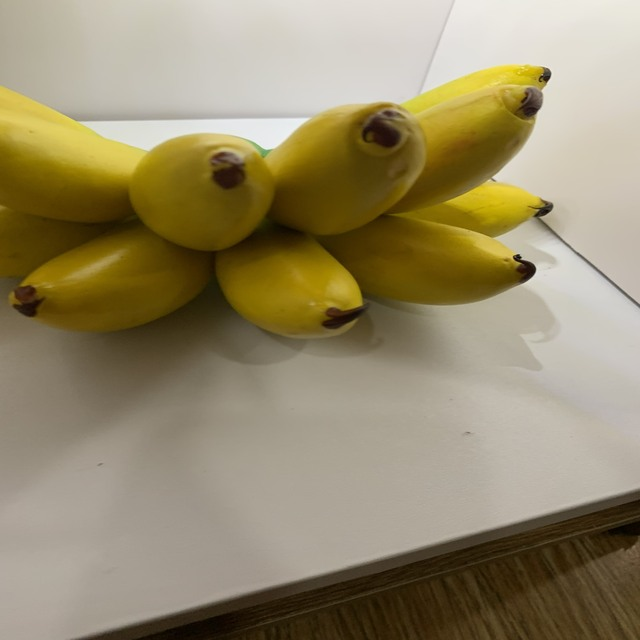Chuoi: (0, 58, 556, 351)
